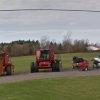Tractor: (27, 38, 63, 76)
